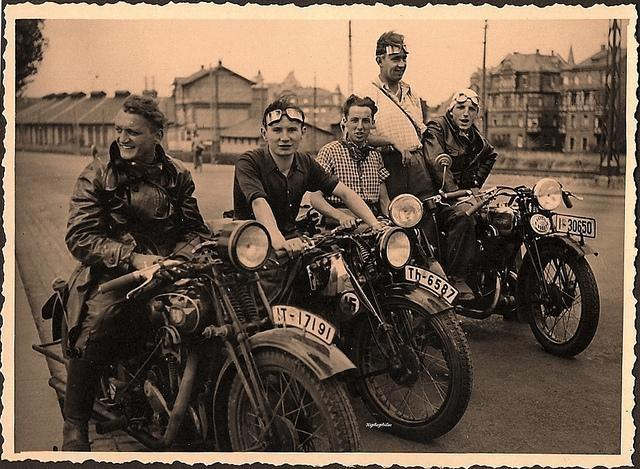motorcycle: (90, 218, 360, 452), (276, 228, 472, 442), (461, 177, 602, 354), (376, 156, 474, 288)
